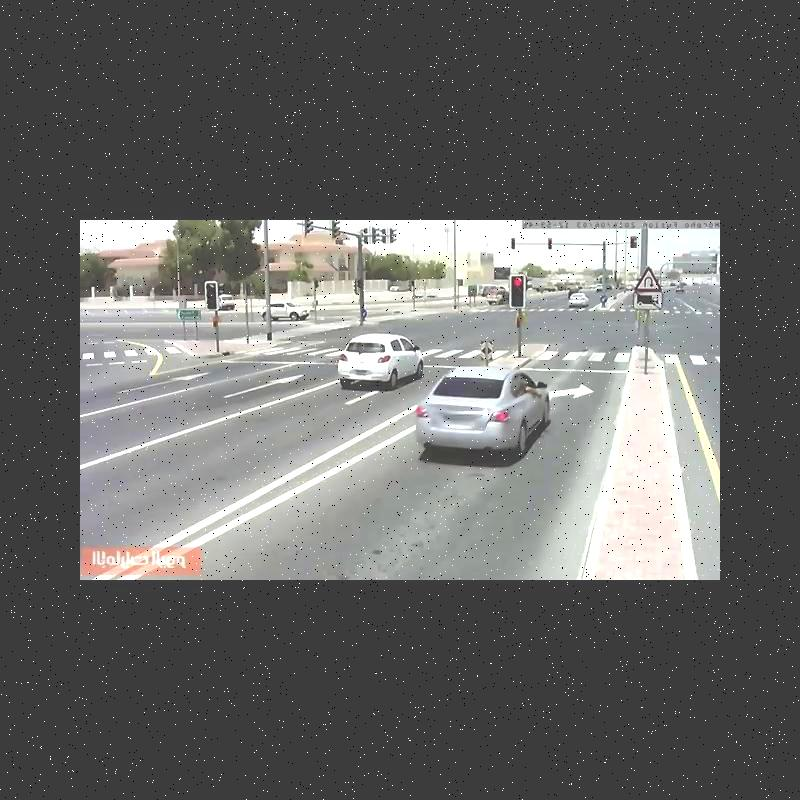car: (416, 367, 552, 455), (336, 332, 426, 387), (260, 301, 310, 322), (482, 287, 511, 304), (567, 291, 590, 309), (218, 292, 236, 312), (675, 286, 684, 294)
truck: (532, 278, 556, 294)
